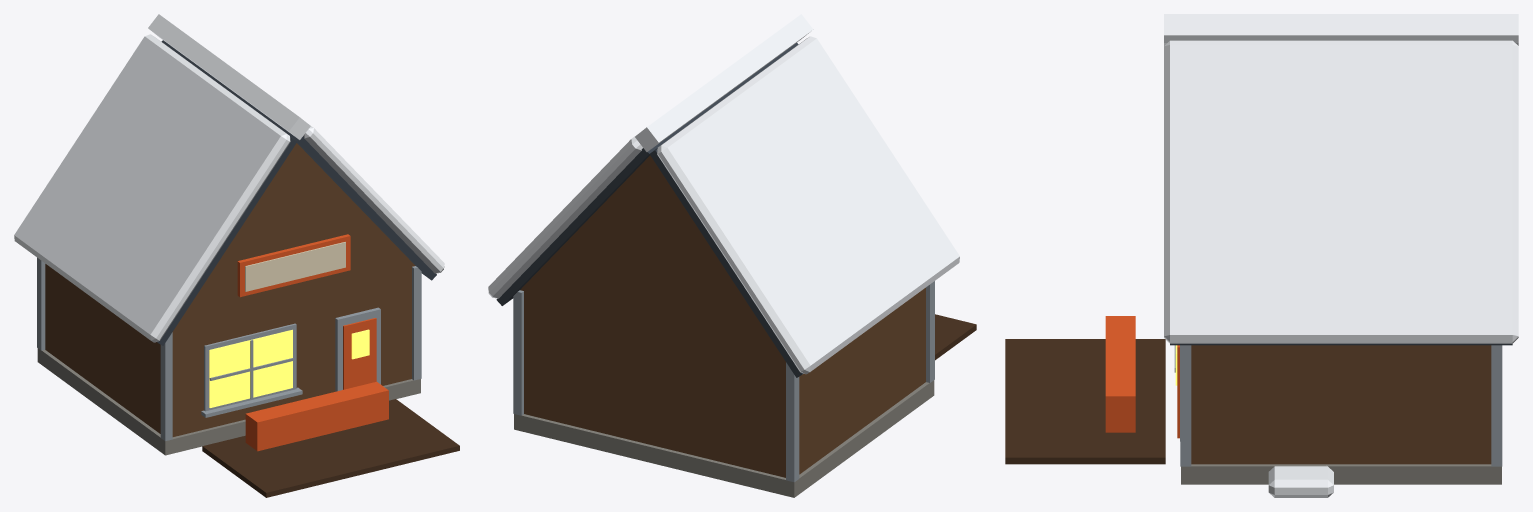
File: waffle-haus-aframe60s.glb
The picture shows the model from 3 angles, left to right: view 1: azimuth 30°, elevation 25°; view 2: azimuth 150°, elevation 25°; view 3: azimuth 270°, elevation 25°; orthographic projection. The views are drawn at different scales.
Parts seen in each view (by area): view 1: waffle-haus-aframe60s; view 2: waffle-haus-aframe60s; view 3: waffle-haus-aframe60s.
Boxes of the visible parts, x1=… form: waffle-haus-aframe60s: x1=14, y1=14, x2=459, y2=497; waffle-haus-aframe60s: x1=488, y1=14, x2=976, y2=497; waffle-haus-aframe60s: x1=1005, y1=14, x2=1518, y2=497.
Size of the model in its own units: 8.71 by 8.62 by 10.24.
